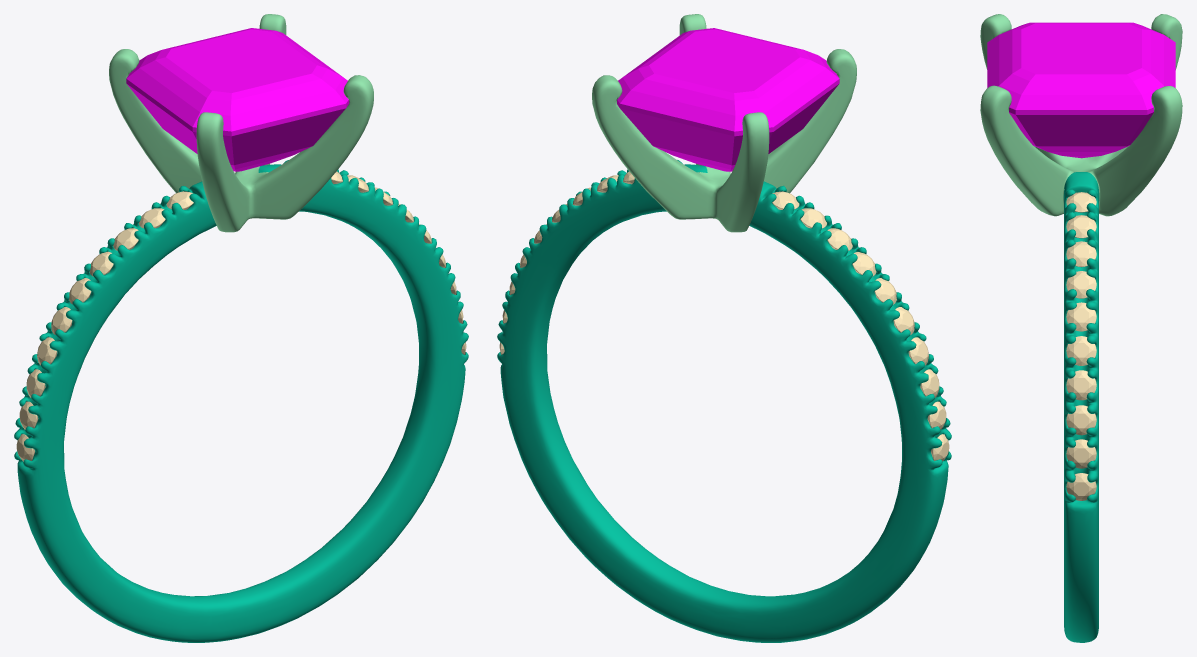
The model's file is BE1D1823_AS_200ct_RENDER.glb.
3 views of the same model, side by side, from view 1: azimuth 30°, elevation 25°; view 2: azimuth 150°, elevation 25°; view 3: azimuth 270°, elevation 25° (orthographic).
Visible parts, largest first — view 1: Metal 01, CS_Diamond_Asscher, Metal 02; view 2: Metal 01, CS_Diamond_Asscher, Metal 02; view 3: CS_Diamond_Asscher, Metal 02, Metal 01, Diamond_Round_Gem_SH.016, Diamond_Round_Gem_SH.017, Diamond_Round_Gem_SH.018, Diamond_Round_Gem_SH.015, Diamond_Round_Gem_SH.014, Diamond_Round_Gem_SH.019, Diamond_Round_Gem_SH.013, Diamond_Round_Gem_SH.012, Diamond_Round_Gem_SH.011 (+1 smaller).
Part boxes in pixels (left/top/right/bottom): Metal 01: left=14, top=160, right=468, bottom=642; CS_Diamond_Asscher: left=126, top=28, right=349, bottom=171; Metal 02: left=109, top=14, right=373, bottom=232; Metal 01: left=497, top=160, right=951, bottom=642; CS_Diamond_Asscher: left=617, top=28, right=839, bottom=171; Metal 02: left=592, top=14, right=856, bottom=232; CS_Diamond_Asscher: left=987, top=22, right=1175, bottom=158; Metal 02: left=980, top=14, right=1182, bottom=216; Metal 01: left=1063, top=172, right=1099, bottom=642; Diamond_Round_Gem_SH.016: left=1066, top=370, right=1096, bottom=400; Diamond_Round_Gem_SH.017: left=1066, top=405, right=1096, bottom=435; Diamond_Round_Gem_SH.018: left=1066, top=439, right=1096, bottom=468; Diamond_Round_Gem_SH.015: left=1066, top=336, right=1096, bottom=365; Diamond_Round_Gem_SH.014: left=1066, top=302, right=1096, bottom=331; Diamond_Round_Gem_SH.019: left=1066, top=473, right=1096, bottom=500; Diamond_Round_Gem_SH.013: left=1066, top=271, right=1096, bottom=298; Diamond_Round_Gem_SH.012: left=1066, top=241, right=1096, bottom=267; Diamond_Round_Gem_SH.011: left=1066, top=215, right=1096, bottom=238.
Size of the model in its own units: 20.31 by 25.05 by 8.04.
